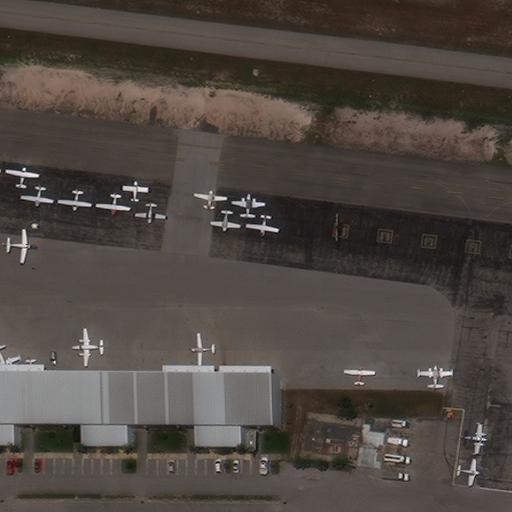Small Civil Transport: (72, 327, 105, 367), (2, 227, 32, 263), (230, 192, 267, 219), (417, 364, 452, 390), (190, 333, 216, 367), (460, 423, 488, 454), (5, 166, 41, 189), (245, 213, 279, 237), (56, 188, 91, 211), (208, 208, 241, 232), (95, 192, 130, 214), (19, 186, 54, 207), (193, 189, 228, 210), (133, 202, 167, 223), (456, 460, 481, 487), (343, 366, 375, 386), (122, 180, 150, 202), (0, 346, 21, 371)
